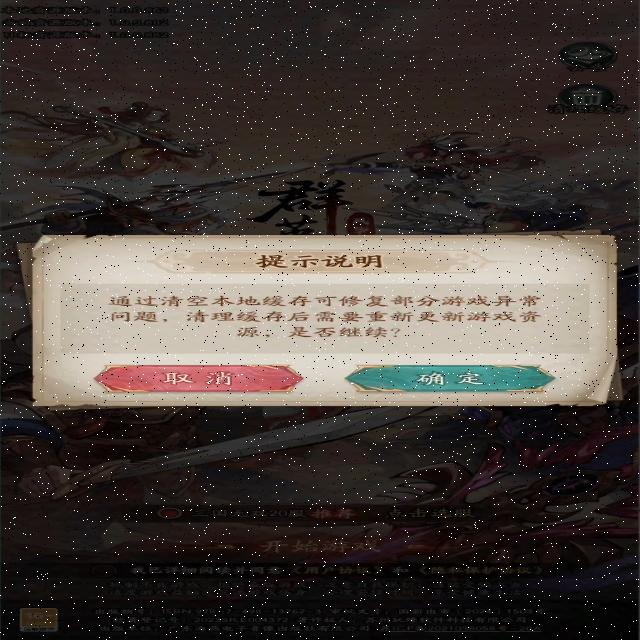operation-close: (90, 363, 306, 392)
operation-confirm: (341, 363, 559, 394)
